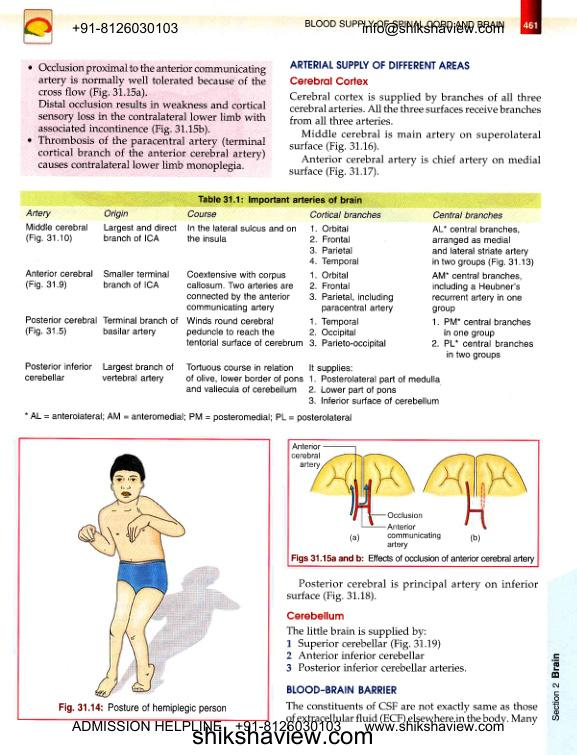caption: (290, 553, 535, 564), (58, 702, 227, 715), (196, 194, 363, 206), (469, 533, 481, 544), (349, 533, 361, 543)
image: (30, 444, 259, 700), (290, 441, 536, 551)
list: (26, 61, 268, 173), (284, 638, 469, 674)
sub-section-heading: (289, 59, 471, 71), (286, 684, 398, 695), (289, 75, 370, 87), (286, 610, 345, 621)
table: (21, 207, 540, 425)
text: (288, 91, 542, 180), (285, 577, 539, 603), (285, 700, 538, 726), (285, 625, 427, 638)
